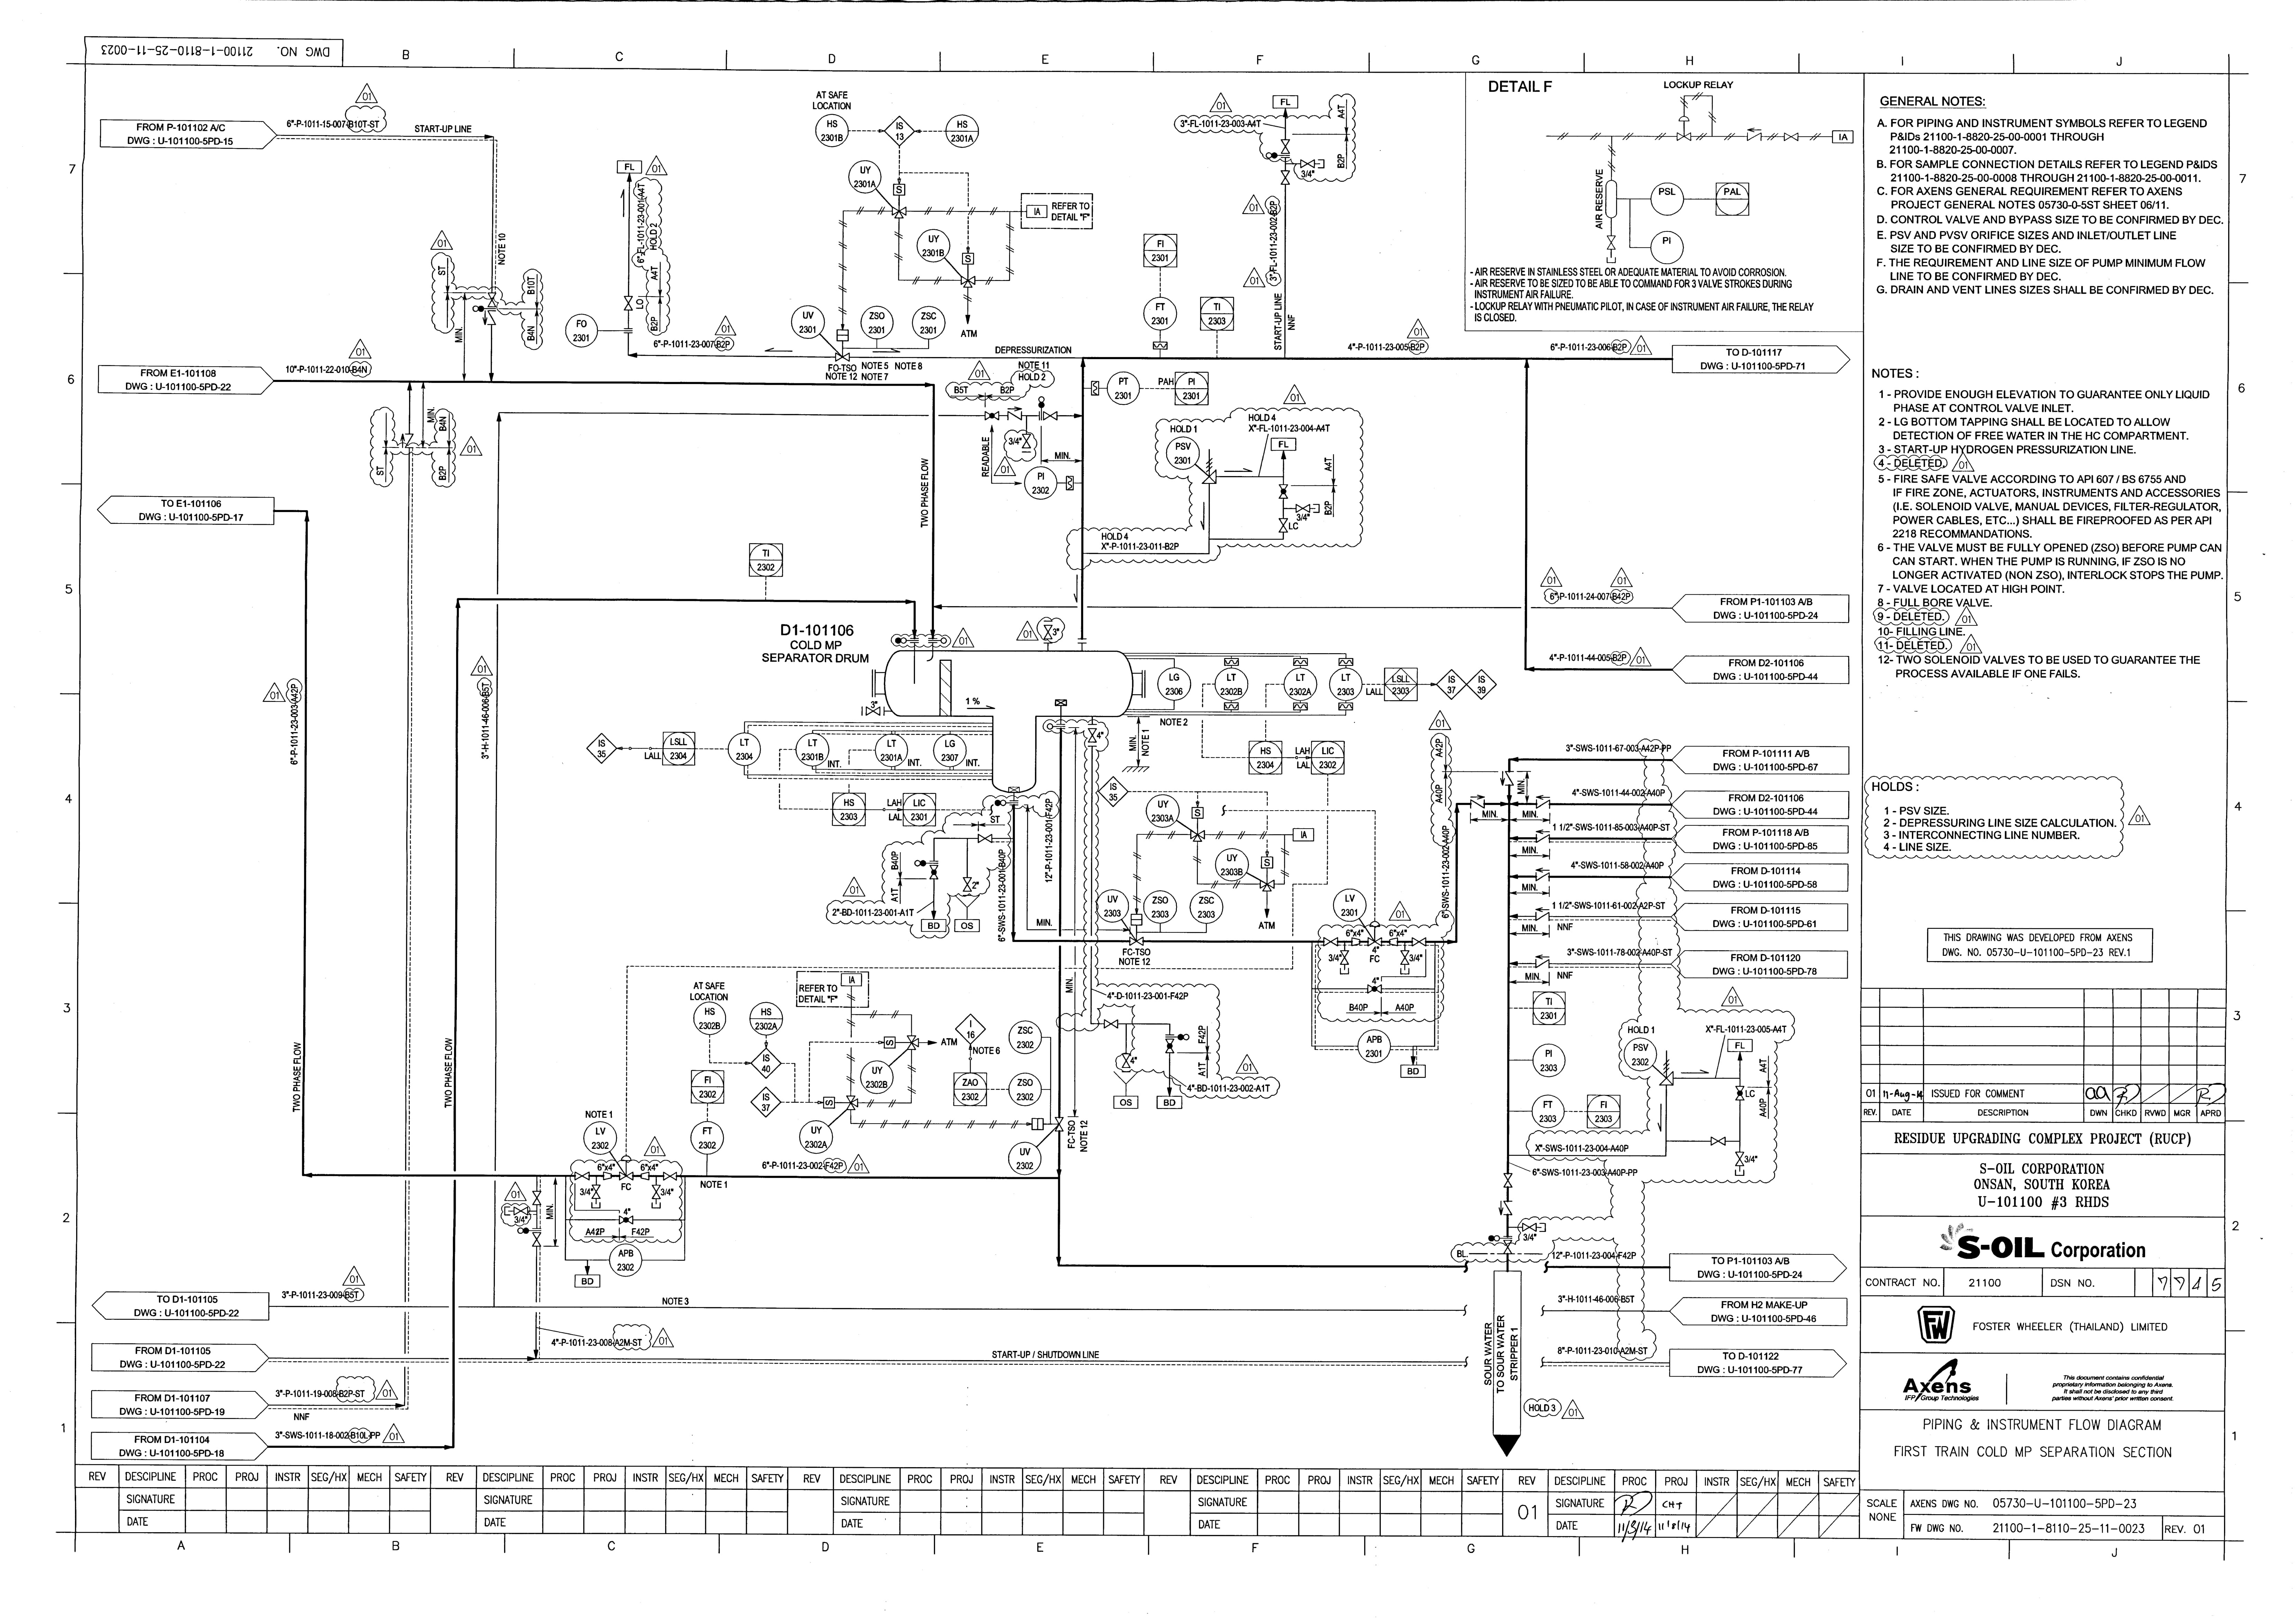NAS: (1604, 179, 1620, 221), (1744, 126, 1764, 144), (1653, 130, 1667, 142)
butterfly0: (982, 410, 1000, 422), (618, 1213, 634, 1226), (1366, 984, 1384, 995), (928, 865, 939, 881)
butterfly90: (1277, 483, 1289, 501), (1165, 1037, 1175, 1054), (1736, 1086, 1744, 1101)
reduce0: (1350, 937, 1361, 947), (602, 1171, 613, 1180)
reduce180: (639, 1171, 650, 1182)
valvecontrol180: (1389, 937, 1399, 947)
valvecontrol90: (618, 1154, 636, 1182), (1366, 919, 1384, 947), (1676, 114, 1692, 142)
valvegate0: (662, 1171, 678, 1182)
valvegate90: (1606, 235, 1616, 252)
